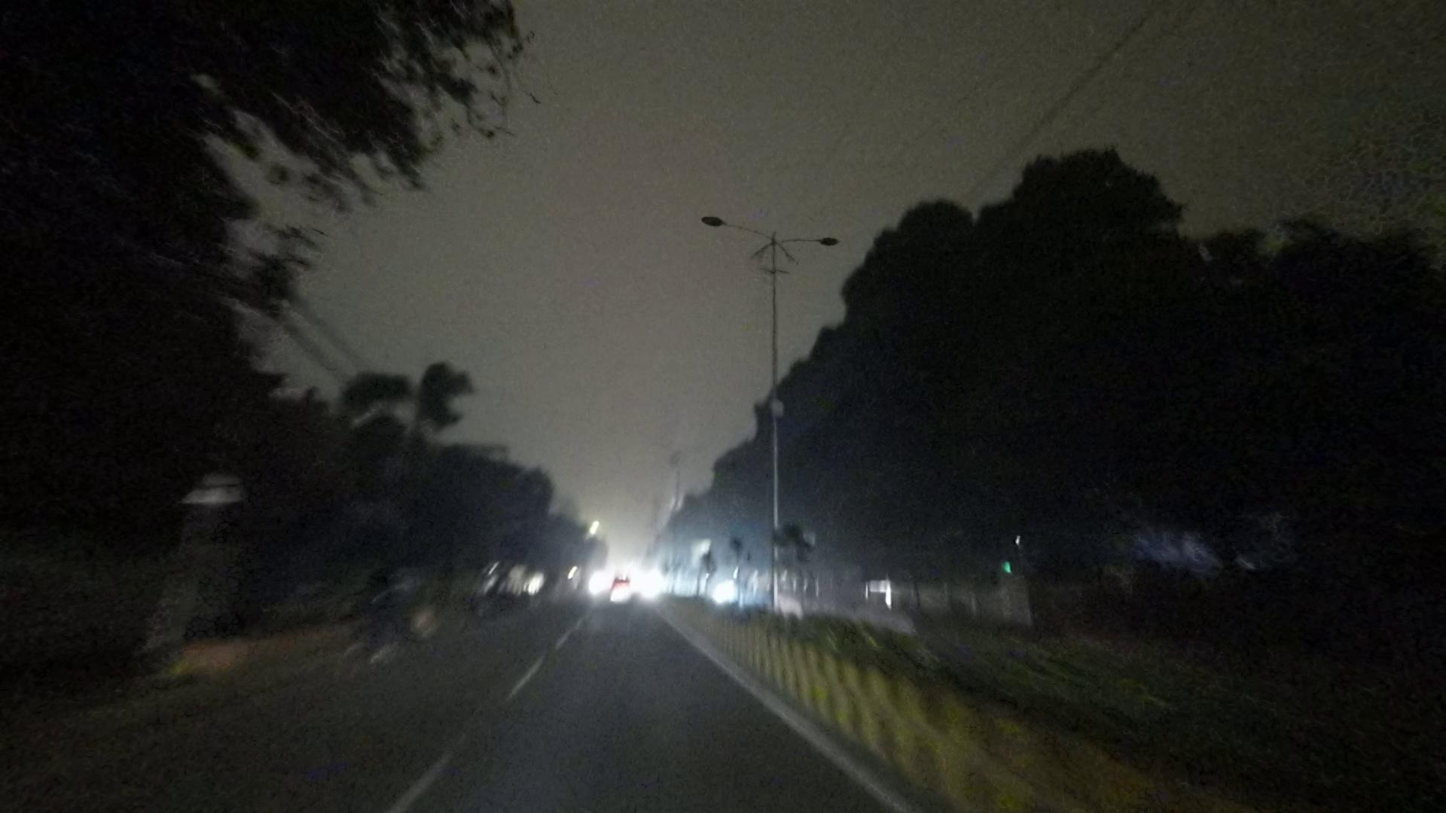streetlight: (701, 213, 770, 242), (784, 231, 841, 250)
